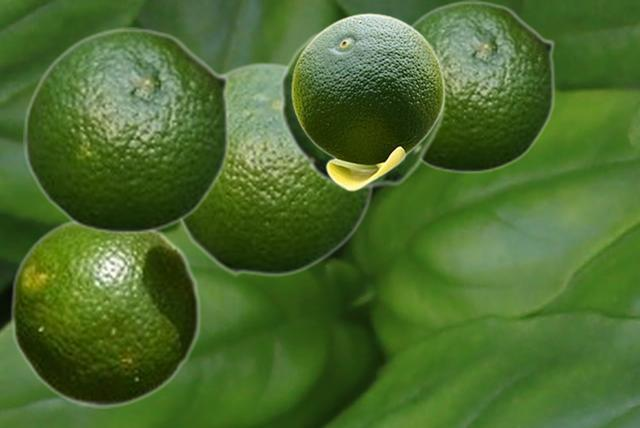calamansi: (23, 27, 230, 234), (177, 60, 373, 276), (9, 217, 201, 407), (279, 24, 445, 189), (291, 13, 444, 190), (411, 0, 555, 173)
